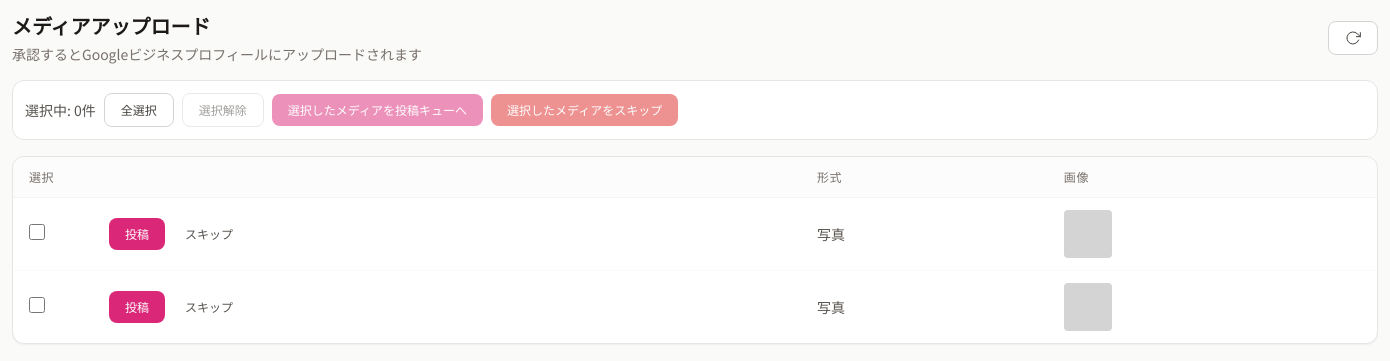
MediaUploadsPage › selects all and clears selection
Step 1. Click the button "全選択" → [139, 110], box [104,93,174,127]
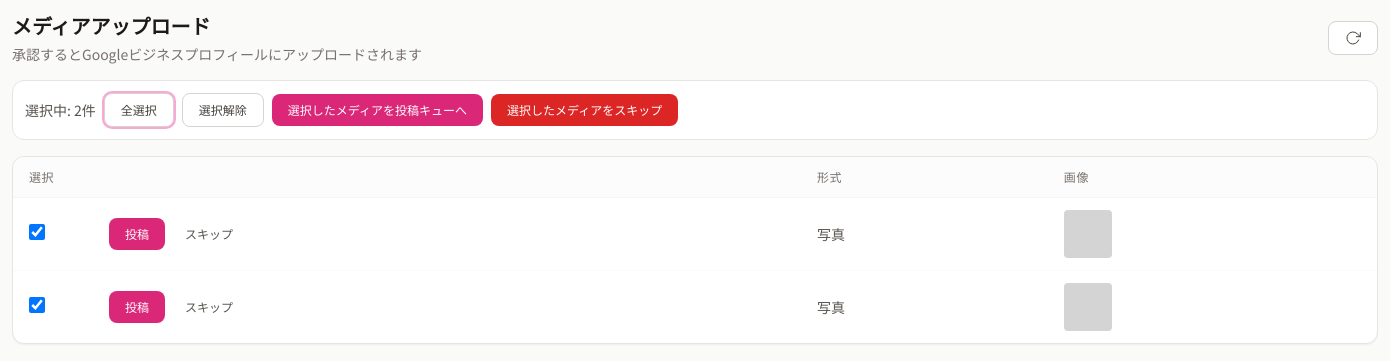
Expected: the text "選択中: 2件" is shown, [25,100,96,120]
Step 2. Click the button "選択解除" → [223, 110], box [182,93,264,127]
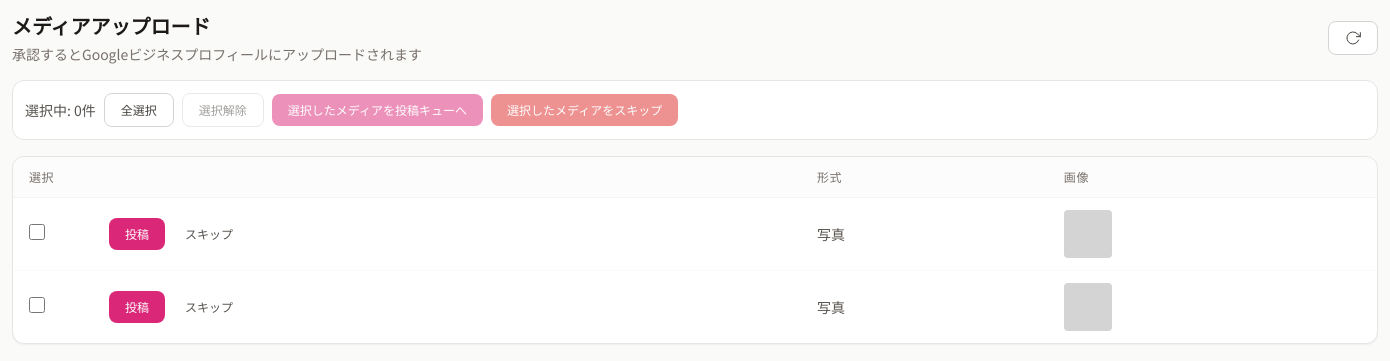
Expected: the text "選択中: 0件" is shown, [25,100,96,120]
